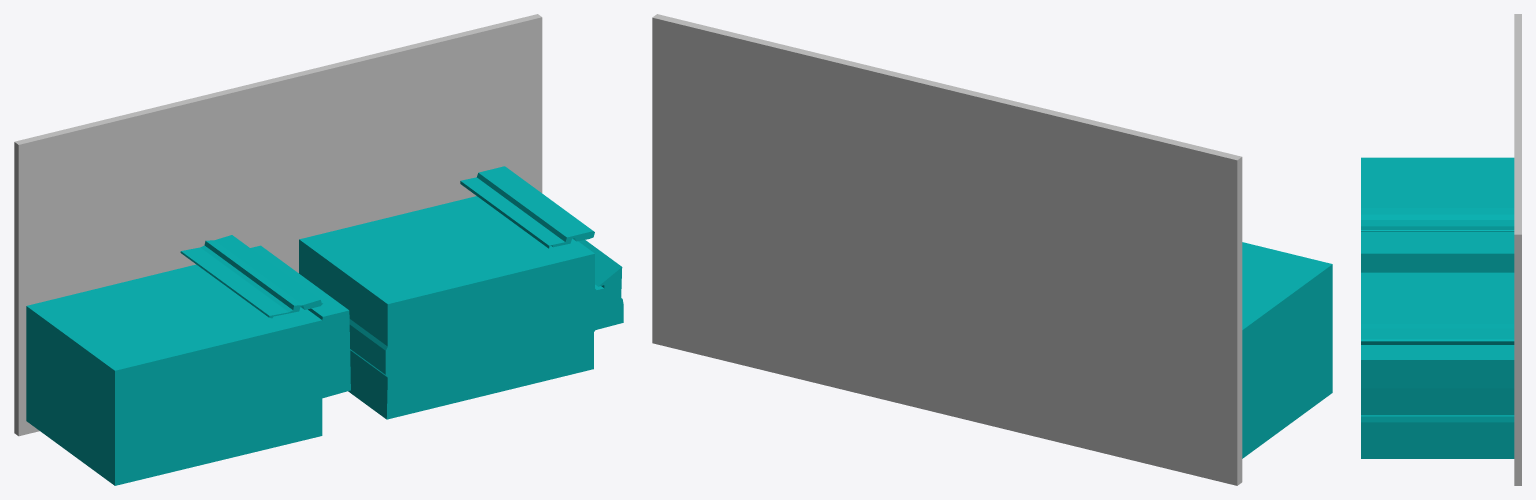
3 renders of one model, left to right at view 1: azimuth 30°, elevation 25°; view 2: azimuth 150°, elevation 25°; view 3: azimuth 270°, elevation 25°, orthographic. The views are drawn at different scales.
Parts seen in each view (by area): view 1: world; view 2: world; view 3: world.
Boxes of the visible parts, bbox=[...] form: world: bbox=[14, 14, 623, 485]; world: bbox=[652, 14, 1332, 485]; world: bbox=[1361, 14, 1521, 485].
Bounding box in the file's own units: 10.23 × 5.44 × 3.15.
